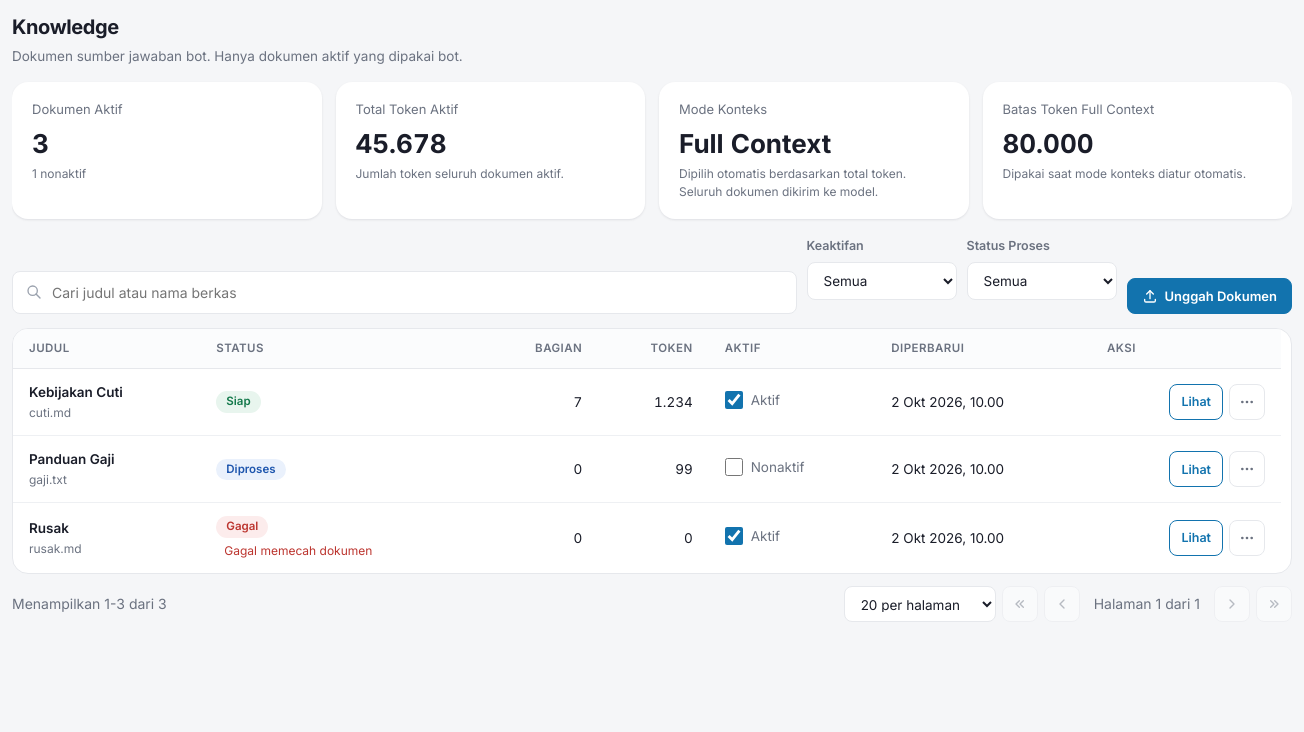
Test case: Knowledge: aksi baris › galat aksi baris tampil sebagai peringatan
Expected: the text "Kebijakan Cuti" is shown, [29,384,123,400]
What coordinates should you click on to do the following:
click the switch named "cuti.md"
I would click on:
 (734, 400)
Its box is [725,391,743,409].
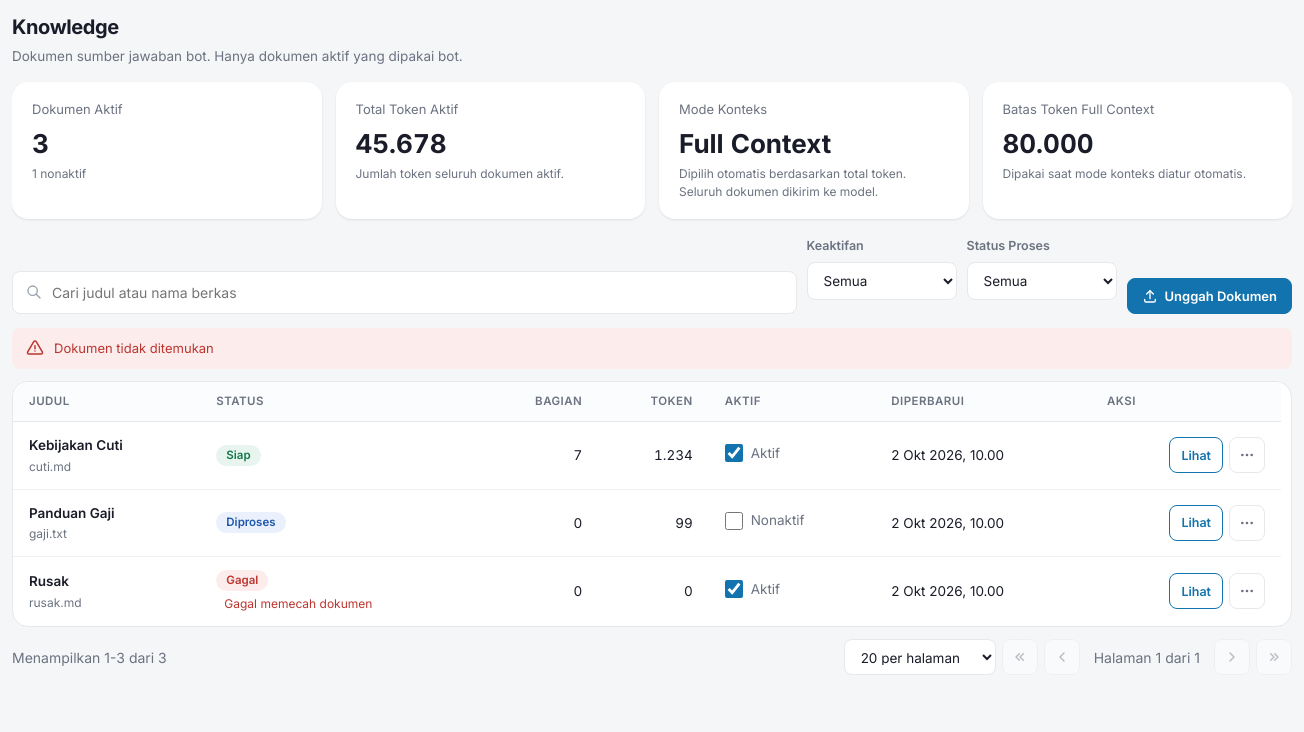
Now the message reads "Dokumen tidak ditemukan", box [54,340,214,356]
